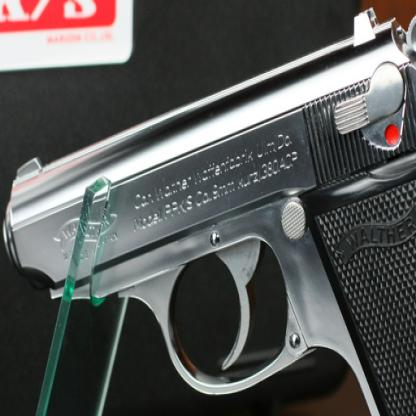gun: (2, 3, 416, 414)
